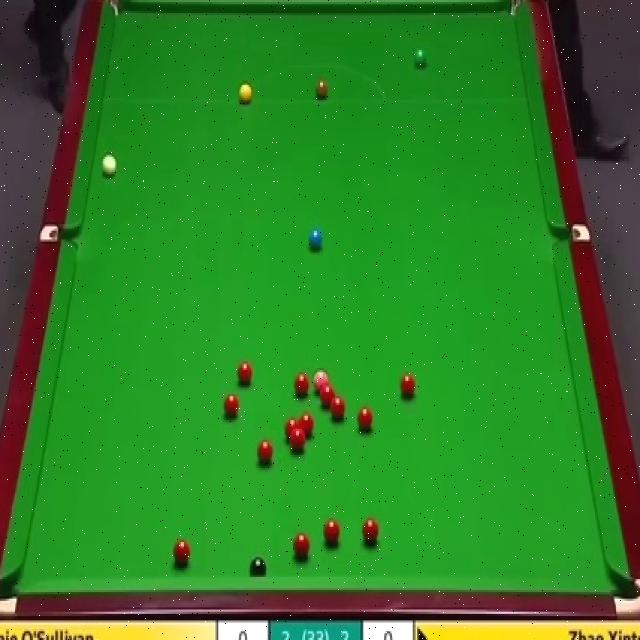black-ball: (251, 556, 270, 577)
blue-ball: (308, 230, 323, 248)
brown-ball: (316, 80, 330, 104)
green-ball: (415, 49, 426, 64)
pink-ball: (313, 370, 329, 391)
red-ball: (172, 538, 190, 566), (298, 412, 316, 440), (293, 532, 311, 560), (324, 516, 340, 546), (259, 439, 277, 465), (399, 371, 416, 396), (363, 519, 380, 543), (223, 395, 240, 418), (238, 361, 252, 387), (290, 430, 306, 452), (293, 373, 308, 394), (357, 409, 373, 428), (331, 399, 344, 422), (285, 419, 299, 440), (320, 384, 334, 405)
white-ball: (101, 152, 117, 177)
yellow-ball: (239, 83, 252, 105)
